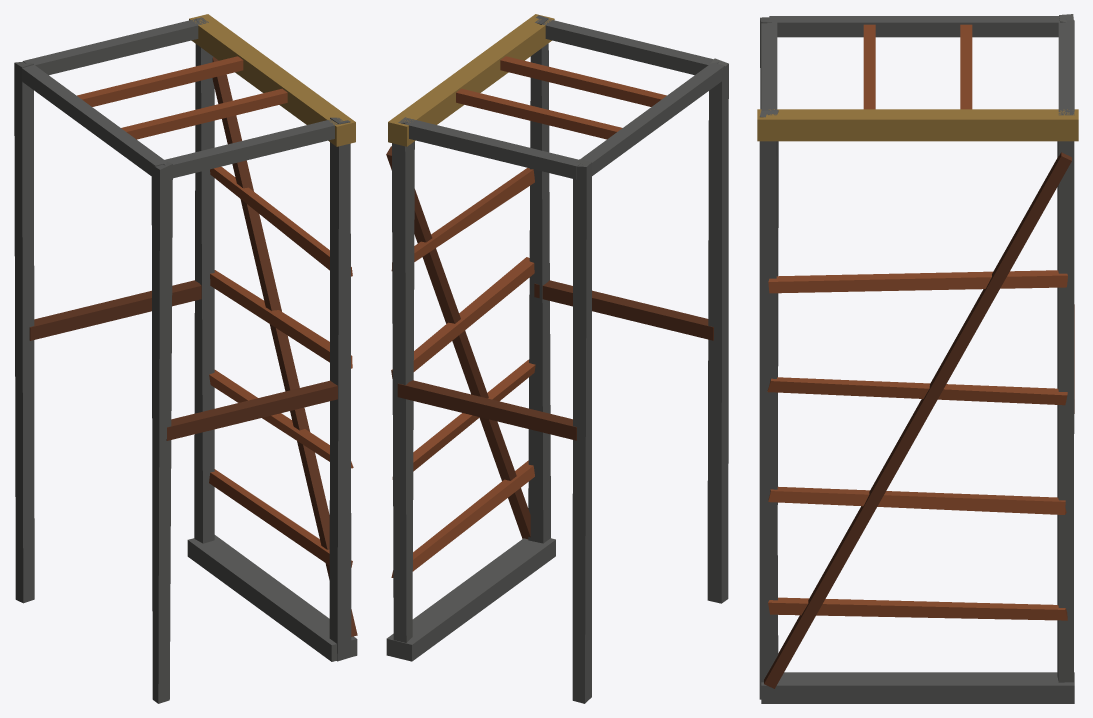
The model's file is arm_cage.glb.
3 renders of one model, left to right at view 1: azimuth 30°, elevation 25°; view 2: azimuth 150°, elevation 25°; view 3: azimuth 270°, elevation 25°, orthographic. The views are drawn at different scales.
Visible parts, largest first — view 1: arm_cage; view 2: arm_cage; view 3: arm_cage.
Part boxes in pixels (x1,y1,x2,y2): arm_cage: (14, 14, 357, 703); arm_cage: (386, 14, 728, 703); arm_cage: (757, 14, 1078, 703).
Size of the model in its own units: 0.629 by 1.61 by 0.8.
